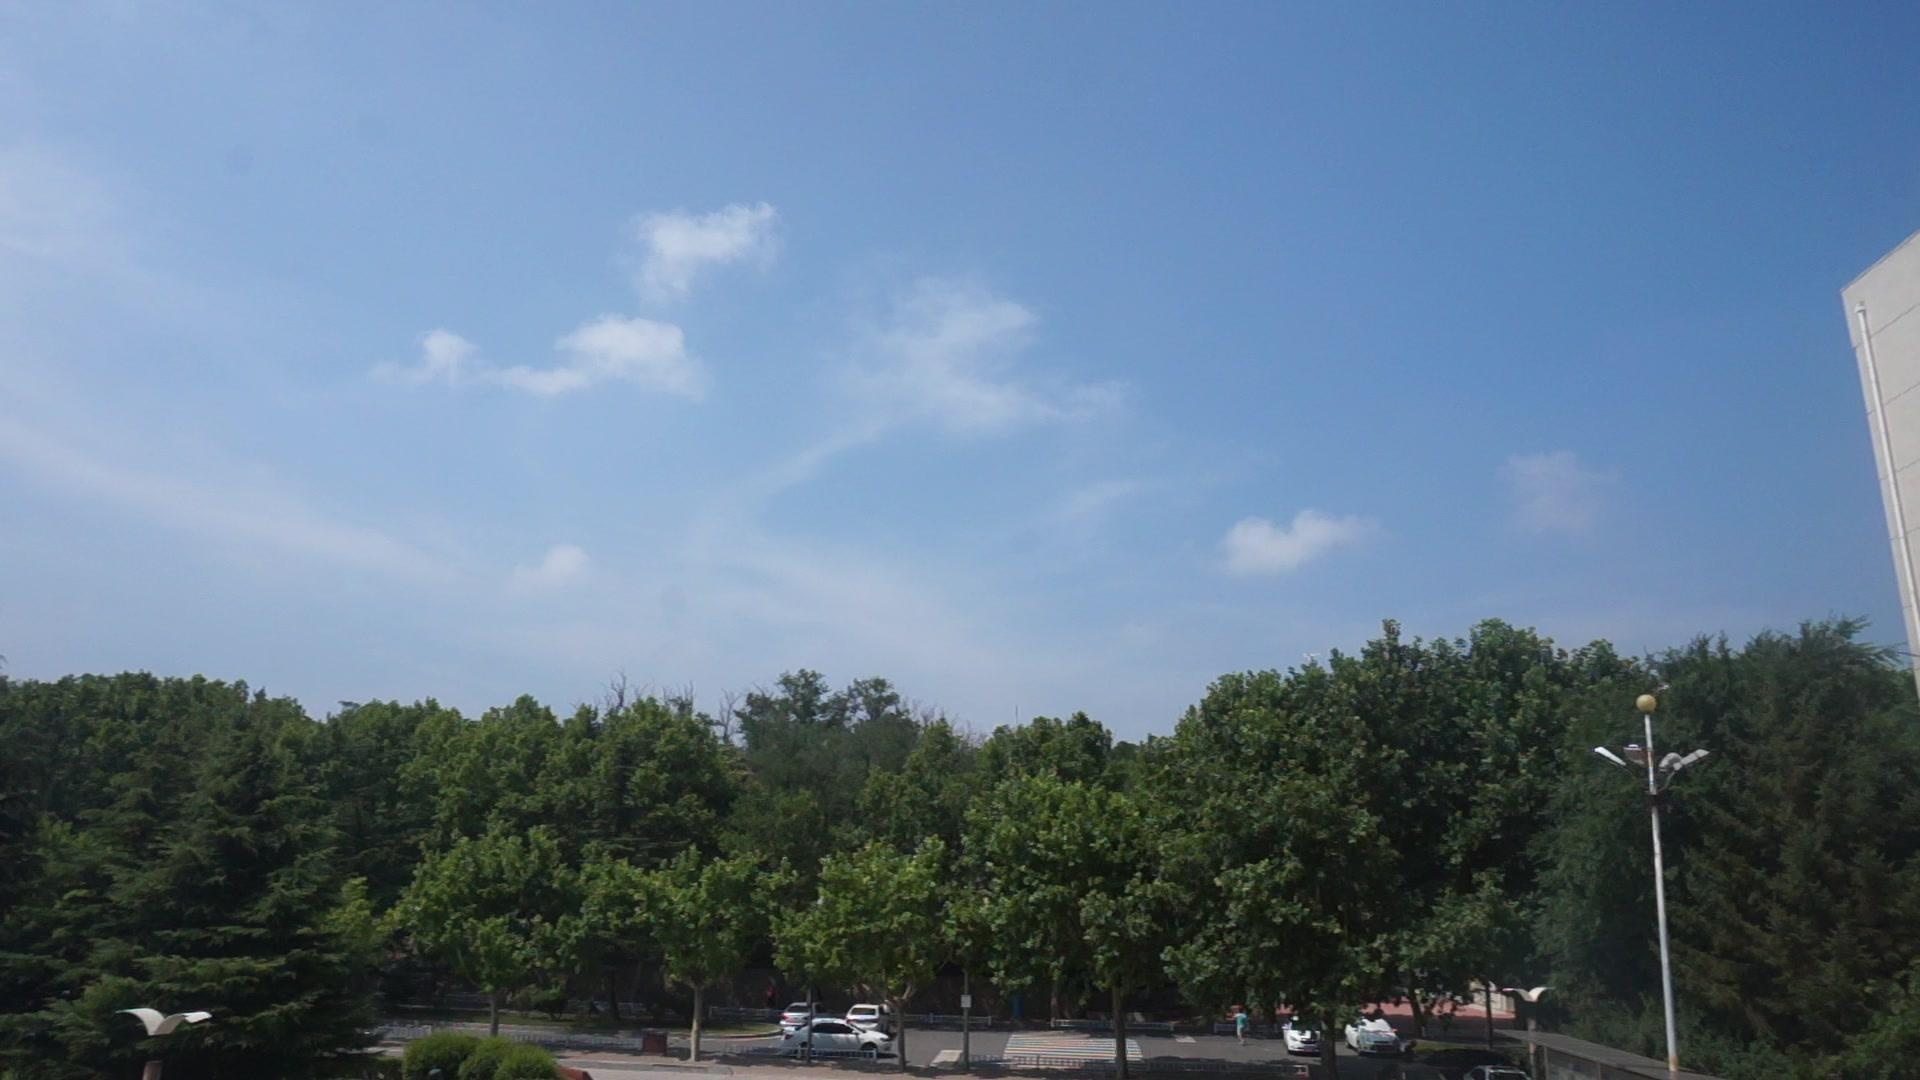UAV: (1303, 653, 1321, 662)
